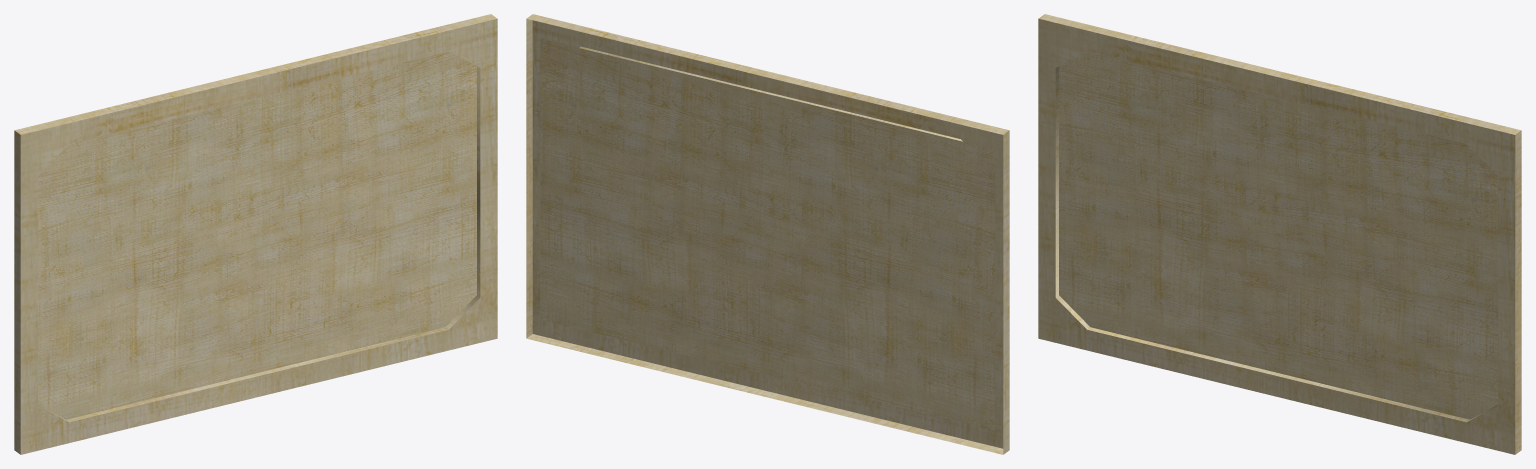
File: Puzzle Beetle Display.fbx
The picture shows the model from 3 angles, left to right: view 1: azimuth 30°, elevation 25°; view 2: azimuth 150°, elevation 25°; view 3: azimuth 330°, elevation 25°; orthographic projection.
Visible parts, largest first — view 1: Puzzle 1 Display for Bettles, Puzzle 1 DisplayFrame for Bettles; view 2: Puzzle 1 Display for Bettles, Puzzle 1 DisplayFrame for Bettles; view 3: Puzzle 1 Display for Bettles, Puzzle 1 DisplayFrame for Bettles.
Boxes of the visible parts, bbox=[...] form: Puzzle 1 Display for Bettles: bbox=[38, 51, 476, 419]; Puzzle 1 DisplayFrame for Bettles: bbox=[14, 14, 497, 454]; Puzzle 1 Display for Bettles: bbox=[540, 38, 995, 430]; Puzzle 1 DisplayFrame for Bettles: bbox=[526, 14, 1009, 454]; Puzzle 1 Display for Bettles: bbox=[1059, 51, 1497, 419]; Puzzle 1 DisplayFrame for Bettles: bbox=[1038, 14, 1521, 454].
Bounding box in the file's own units: 402 × 258 × 9.31.
1 material, 1 textured.
